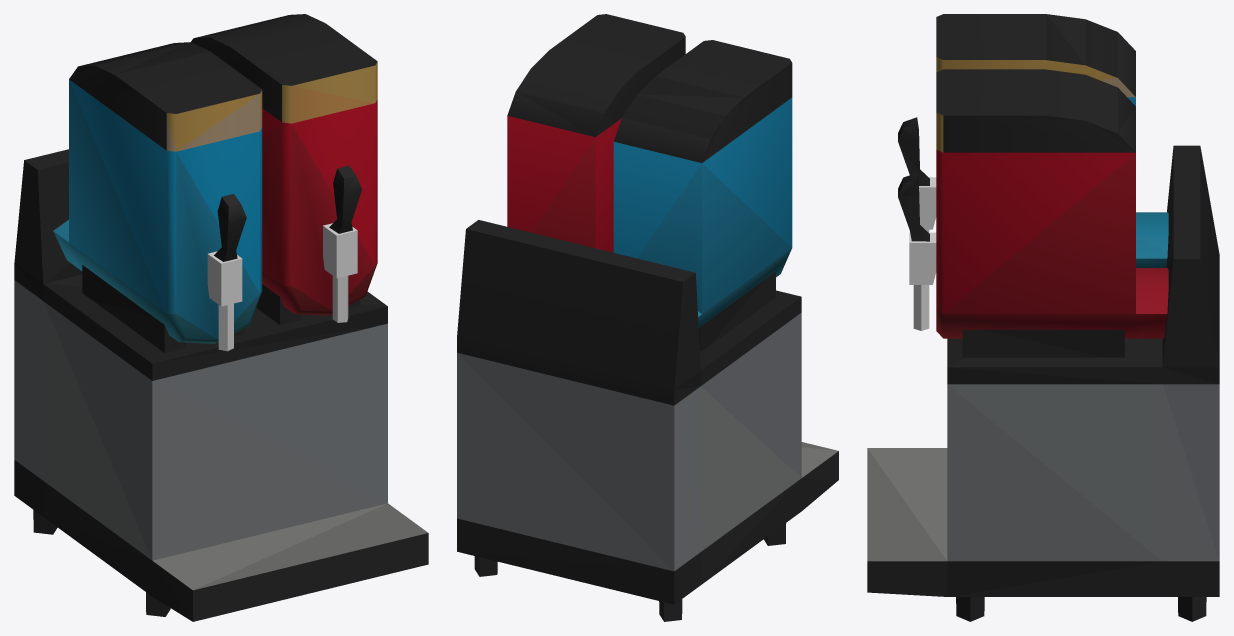
The model's file is gs_slush_machine.glb.
The picture shows the model from 3 angles, left to right: view 1: azimuth 30°, elevation 25°; view 2: azimuth 150°, elevation 25°; view 3: azimuth 270°, elevation 25°; orthographic projection. The views are drawn at different scales.
Parts seen in each view (by area): view 1: ice_slush_machine; view 2: ice_slush_machine; view 3: ice_slush_machine.
Boxes of the visible parts, <box> form: ice_slush_machine: <box>14,14,428,621</box>; ice_slush_machine: <box>457,14,838,621</box>; ice_slush_machine: <box>867,14,1219,621</box>.
Bounding box in the file's own units: 0.4862 × 1.01 × 0.6383.
